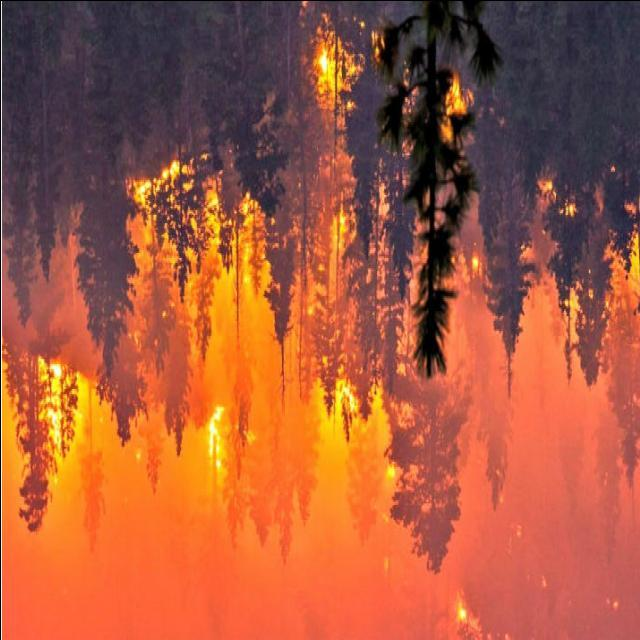Fire: (27, 36, 401, 532)
